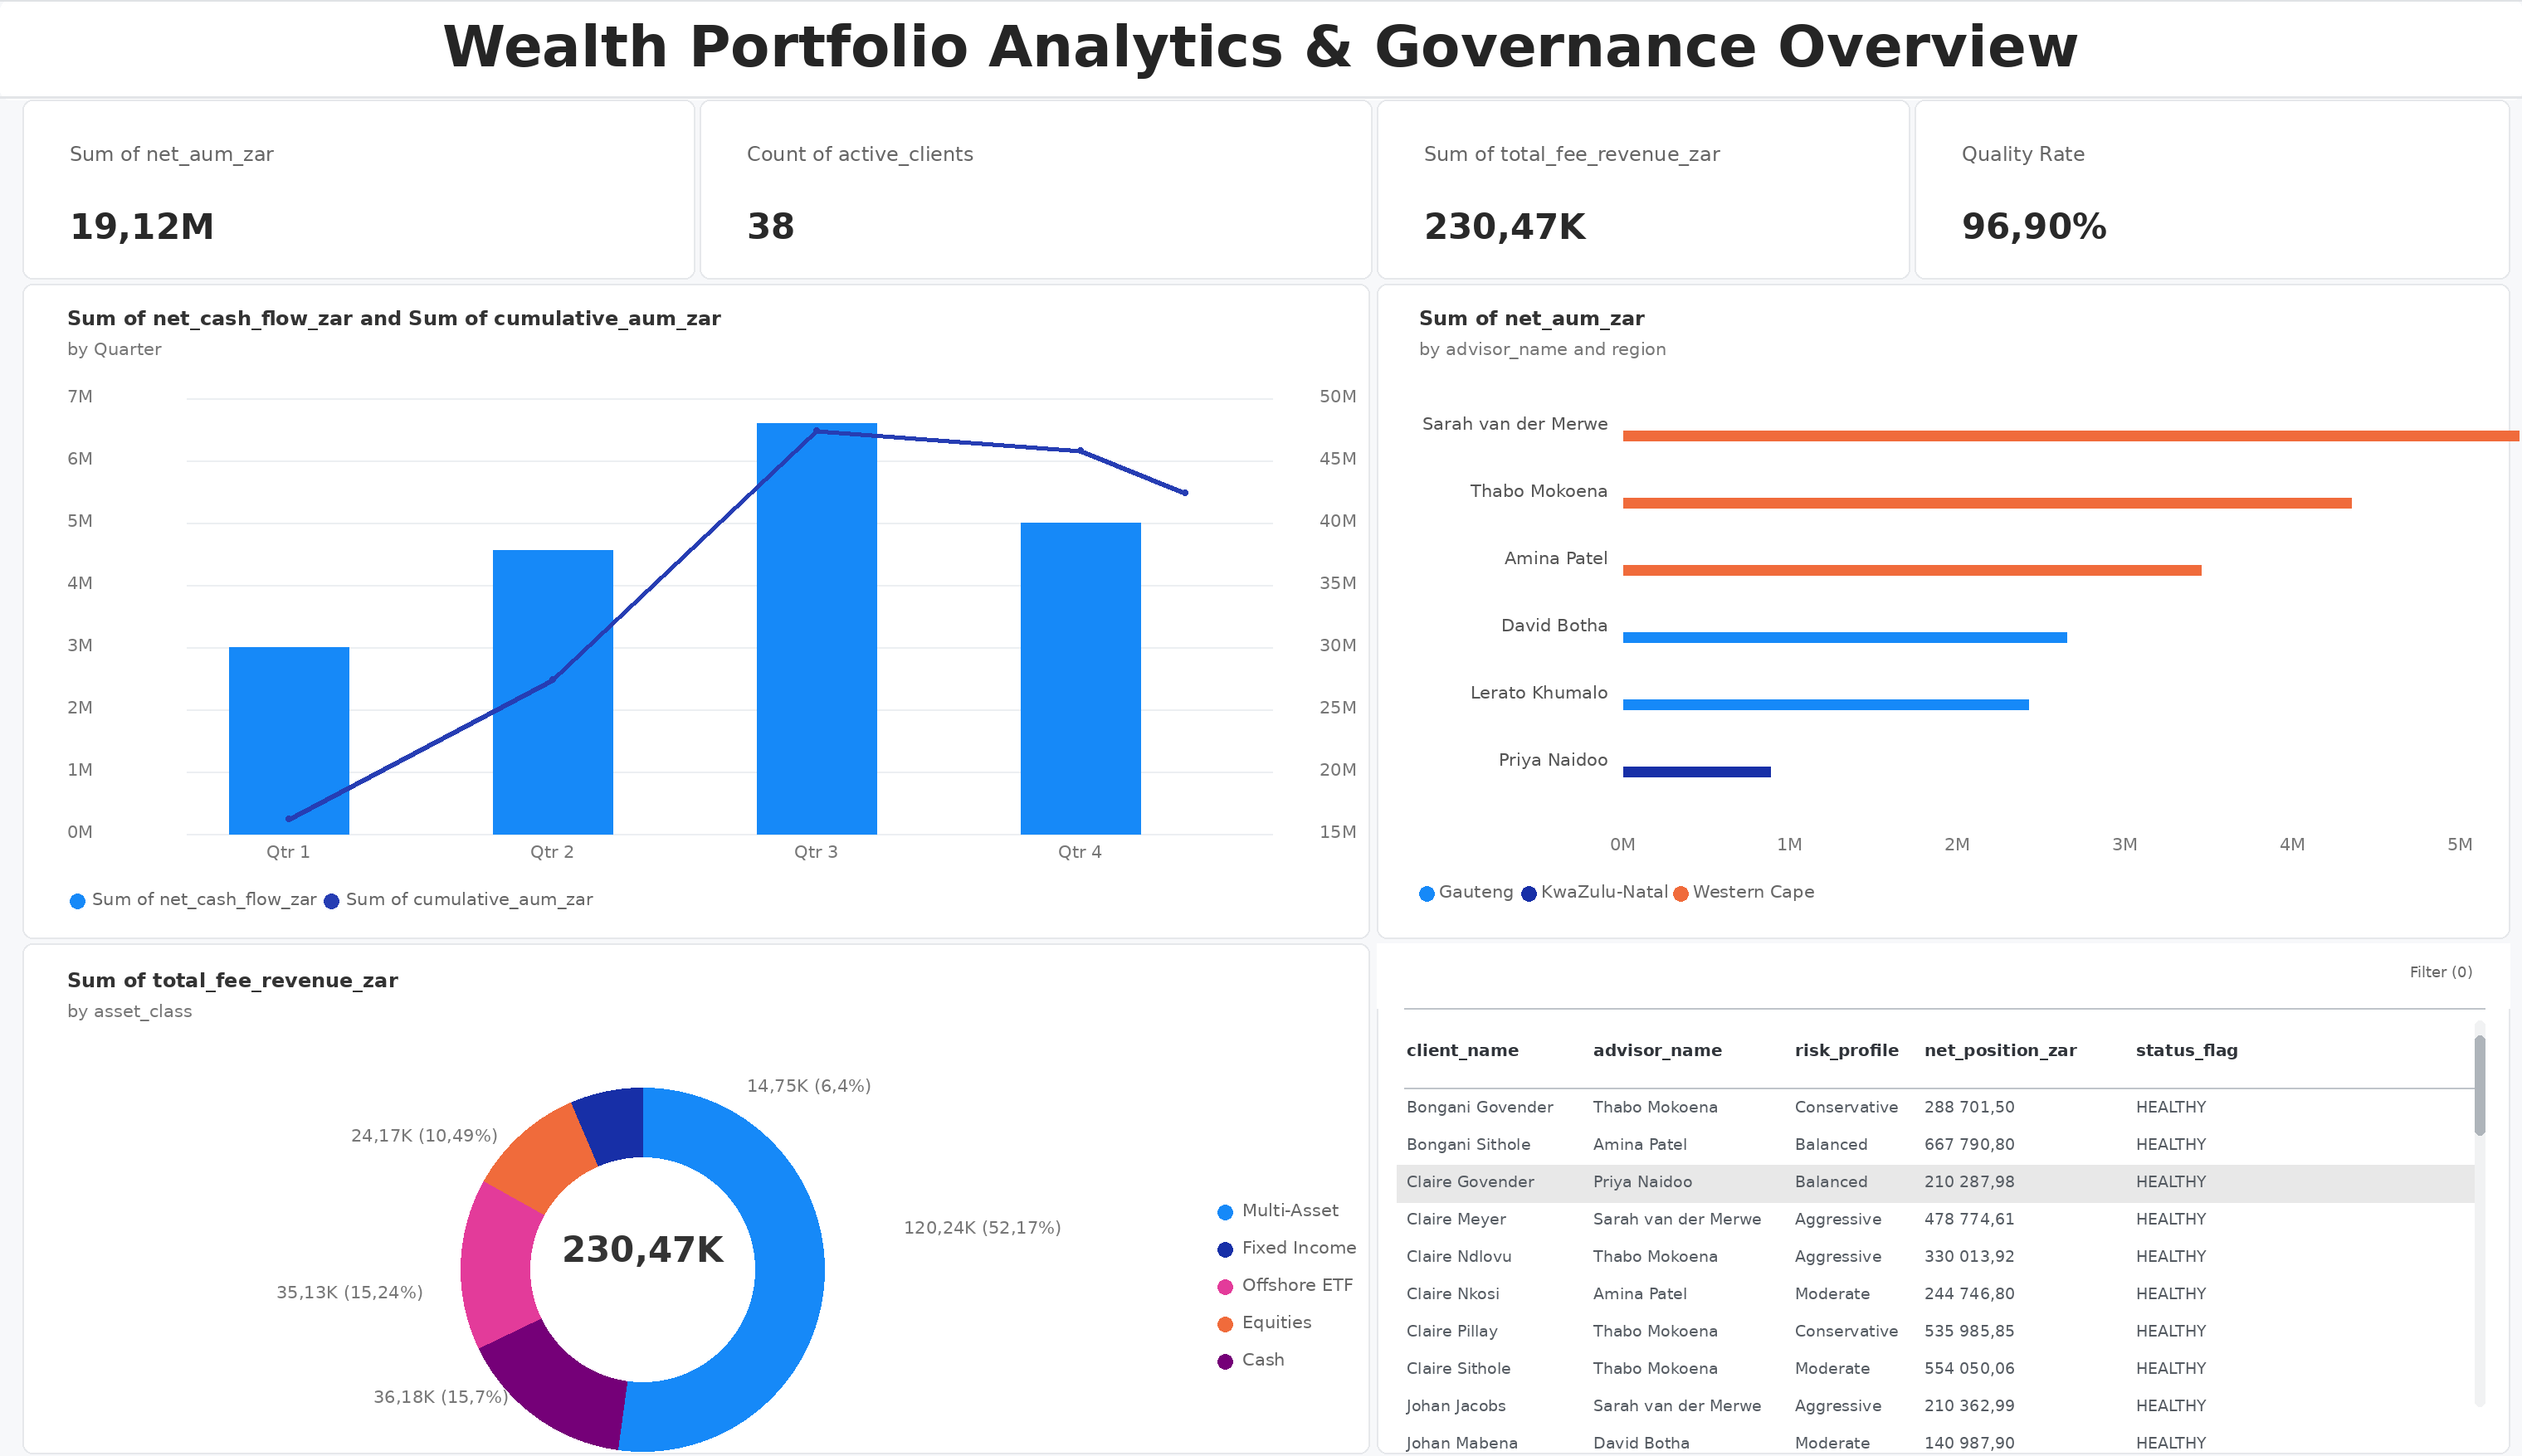

The dashboard page shown, as its layout file describes it:
{"tool":"powerbi","page":{"name":"Page 1","canvas":[1920,1080],"ordinal":0},"visuals":[{"type":"textbox","box":[10.3,0,1910.1,144.1],"z":0},{"type":"cardVisual","fields":{"Data":["vw_aum_by_advisor_and_risk.Quality Rate"]},"box":[1406,71.7,401.7,186.5],"z":1000},{"type":"lineClusteredColumnComboChart","fields":{"Category":["vw_monthly_net_flows.year_month_label.Variation.Date Hierarchy.Year","vw_monthly_net_flows.year_month_label.Variation.Date Hierarchy.Quarter","vw_monthly_net_flows.year_month_label.Variation.Date Hierarchy.Month","vw_monthly_net_flows.year_month_label.Variation.Date Hierarchy.Day"],"Y":["Sum(vw_monthly_net_flows.net_cash_flow_zar)"],"Y2":["Sum(vw_monthly_net_flows.cumulative_aum_zar)"]},"box":[0,258.2,938.7,463.2],"z":2000},{"type":"clusteredBarChart","fields":{"Category":["vw_aum_by_advisor_and_risk.advisor_name"],"Series":["vw_aum_by_advisor_and_risk.region"],"Y":["Sum(vw_aum_by_advisor_and_risk.net_aum_zar)"]},"box":[938.7,258.2,869,452.9],"z":3000},{"type":"donutChart","fields":{"Category":["vw_fee_revenue_by_asset_class.asset_class"],"Y":["Sum(vw_fee_revenue_by_asset_class.total_fee_revenue_zar)"]},"box":[0,711.2,938.7,368.9],"z":4000},{"type":"tableEx","fields":{"Values":["vw_client_churn_and_anomaly_flags.client_name","vw_client_churn_and_anomaly_flags.advisor_name","vw_client_churn_and_anomaly_flags.risk_profile","vw_client_churn_and_anomaly_flags.net_position_zar","vw_client_churn_and_anomaly_flags.status_flag"]},"box":[938.7,711.2,848.5,368.9],"z":5000},{"type":"cardVisual","fields":{"Data":["Sum(vw_aum_by_advisor_and_risk.net_aum_zar)"]},"box":[10.2,71.7,498,186.5],"z":6000},{"type":"cardVisual","fields":{"Data":["Sum(vw_fee_revenue_by_asset_class.total_fee_revenue_zar)"]},"box":[938.7,71.7,450.9,186.5],"z":7000},{"type":"cardVisual","fields":{"Data":["CountNonNull(vw_aum_by_advisor_and_risk.active_clients)"]},"box":[508.3,71.7,430.4,186.5],"z":8000}]}

Visuals, with their boxes in screenshot pixels (x1, y1, x2, y2), scaled from the page's 1920x1080 canvas onto the 2522x1456 screenshot:
textbox: bbox=[13, 0, 2521, 194]
cardVisual - vw_aum_by_advisor_and_risk.Quality Rate: bbox=[1846, 97, 2374, 348]
lineClusteredColumnComboChart - vw_monthly_net_flows.year_month_label.Variation.Date Hierarchy.Year x vw_monthly_net_flows.year_month_label.Variation.Date Hierarchy.Quarter: bbox=[0, 348, 1233, 972]
clusteredBarChart - vw_aum_by_advisor_and_risk.advisor_name x vw_aum_by_advisor_and_risk.region: bbox=[1233, 348, 2374, 959]
donutChart - vw_fee_revenue_by_asset_class.asset_class x Sum(vw_fee_revenue_by_asset_class.total_fee_revenue_zar): bbox=[0, 959, 1233, 1455]
tableEx - vw_client_churn_and_anomaly_flags.client_name x vw_client_churn_and_anomaly_flags.advisor_name: bbox=[1233, 959, 2348, 1455]
cardVisual - Sum(vw_aum_by_advisor_and_risk.net_aum_zar): bbox=[13, 97, 667, 348]
cardVisual - Sum(vw_fee_revenue_by_asset_class.total_fee_revenue_zar): bbox=[1233, 97, 1825, 348]
cardVisual - CountNonNull(vw_aum_by_advisor_and_risk.active_clients): bbox=[668, 97, 1233, 348]
